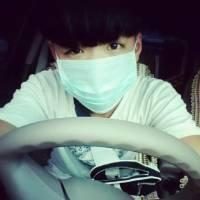face_mask: (54, 11, 137, 108)
